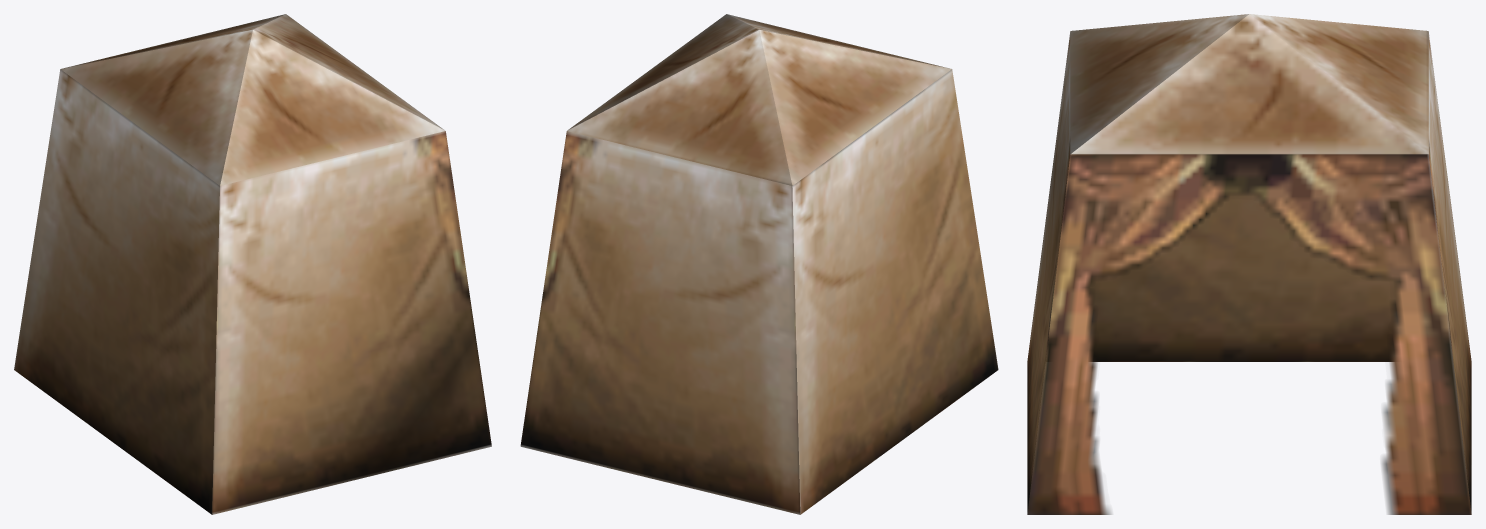
The model's file is Environment - Prop - Tent - PMTent.glb.
3 renders of one model, left to right at view 1: azimuth 30°, elevation 25°; view 2: azimuth 150°, elevation 25°; view 3: azimuth 270°, elevation 25°, orthographic. The views are drawn at different scales.
Parts seen in each view (by area): view 1: PMTENT; view 2: PMTENT; view 3: PMTENT.
Part boxes in pixels (left/top/right/bottom): PMTENT: left=14, top=14, right=491, bottom=514; PMTENT: left=520, top=14, right=998, bottom=514; PMTENT: left=1027, top=14, right=1471, bottom=514.
Bounding box in the file's own units: 17 × 21.97 × 20.84.
Materials: 1 (1 with a texture image).
